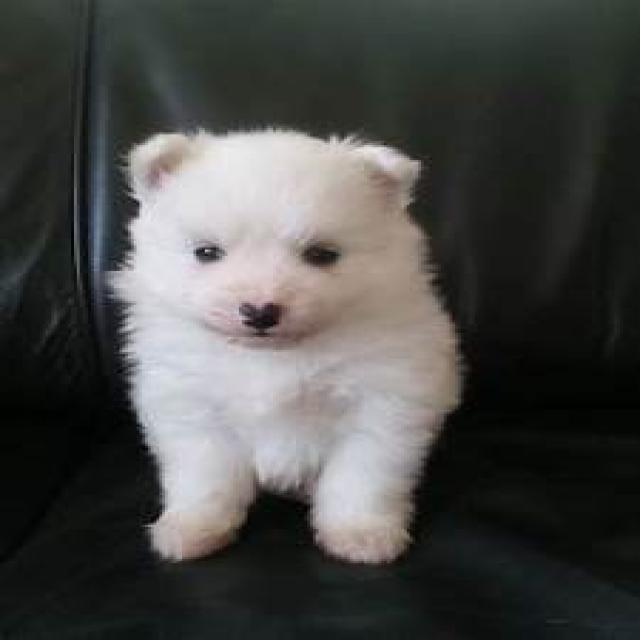animal: (118, 132, 473, 559)
